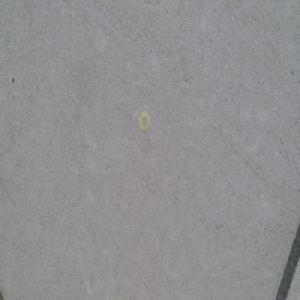Washer: (139, 109, 151, 133)
